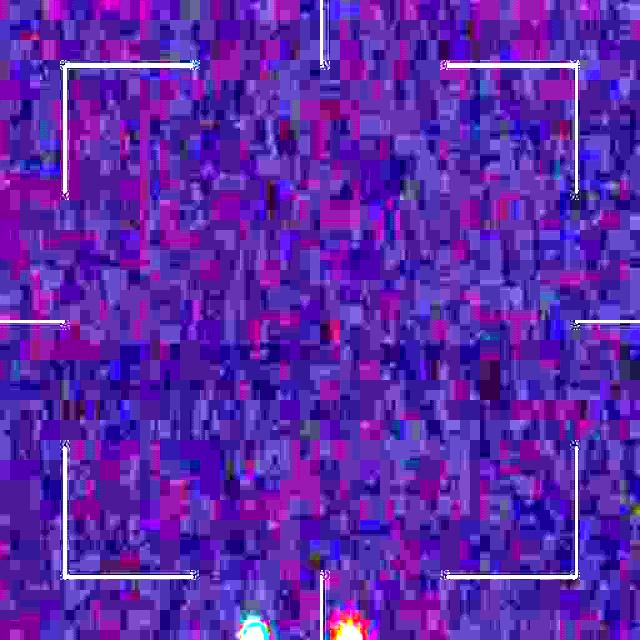bird: (244, 618, 360, 640)
